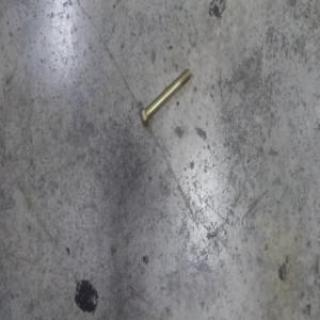Bolttrack_idkeyframe: (137, 67, 191, 128)
